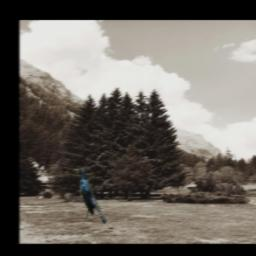Crow: (73, 168, 107, 224)
